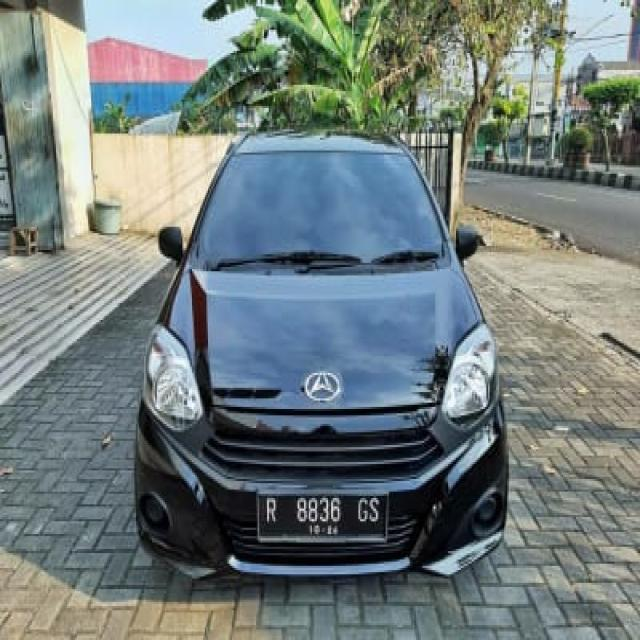plate: (262, 490, 386, 542)
